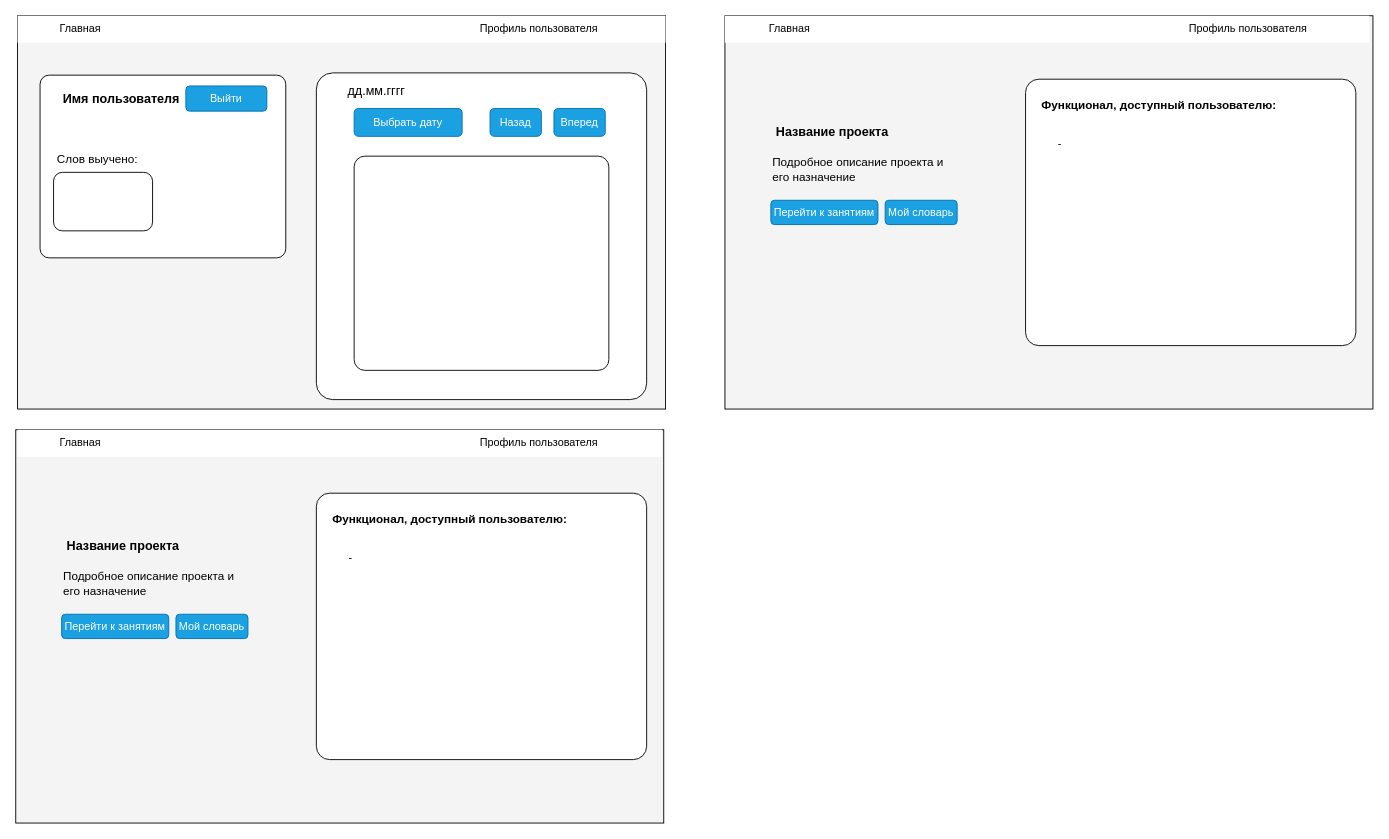
This 1389x839 diagram has some shape labels left out. The shapes that lost their labels are listed below. From the top down, each one's centre as x and y in pixels, then its label:
At (103,201): "Количество выученных слов".
At (481,262): "слово транскрипция перевод".
